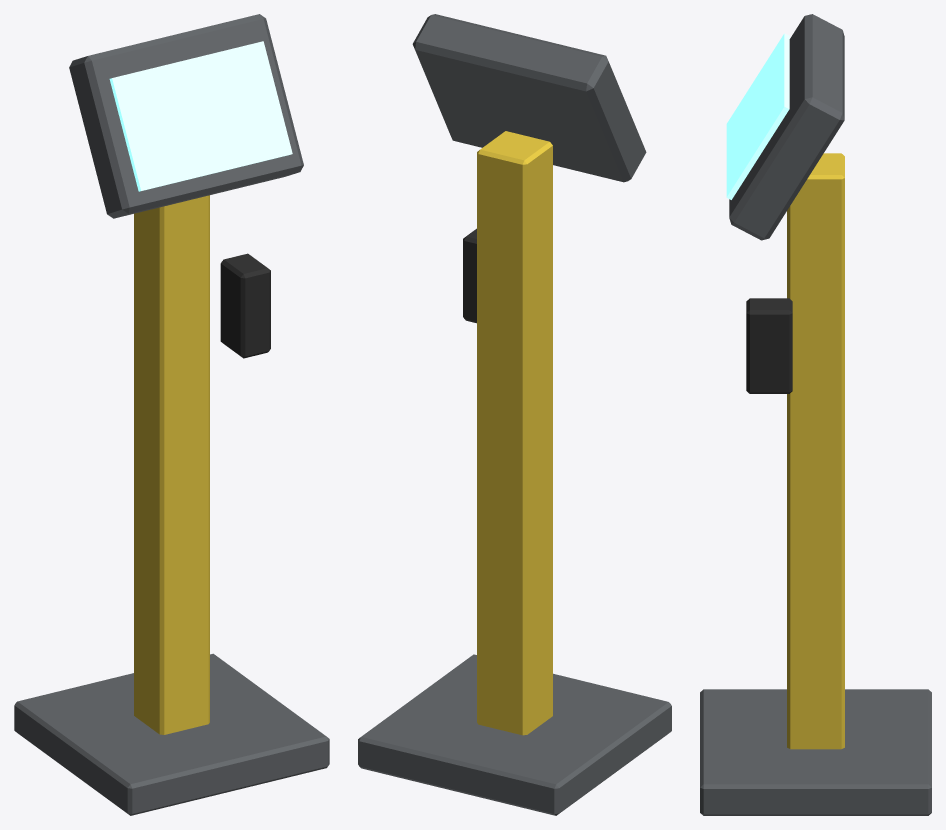
File: manifest_terminal.glb
The picture shows the model from 3 angles, left to right: view 1: azimuth 30°, elevation 25°; view 2: azimuth 150°, elevation 25°; view 3: azimuth 270°, elevation 25°; orthographic projection.
Parts seen in each view (by area): view 1: manifest_terminal; view 2: manifest_terminal; view 3: manifest_terminal.
Part boxes in pixels (x1,y1,x2,y2): manifest_terminal: [14, 14, 329, 815]; manifest_terminal: [358, 14, 671, 815]; manifest_terminal: [700, 14, 931, 815].
Size of the model in its own units: 0.4 by 1.36 by 0.4.
